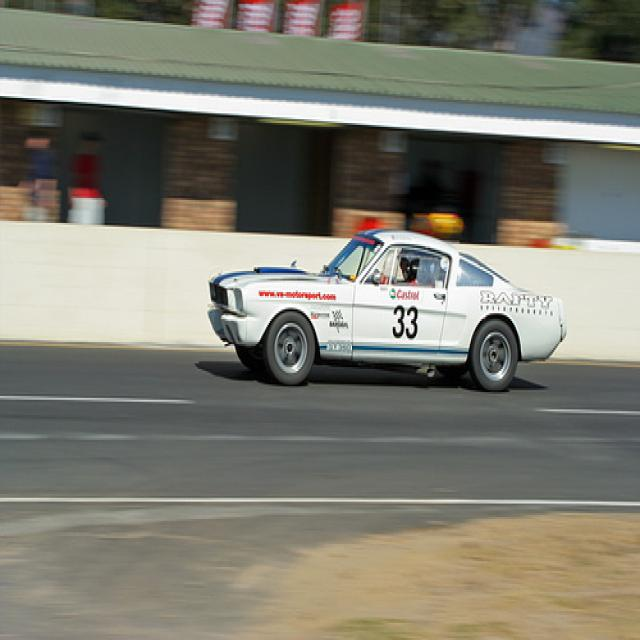car: (205, 228, 567, 389)
